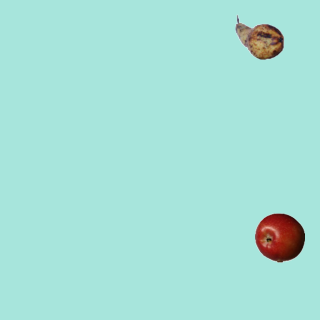Apple Braeburn: (254, 212, 304, 262)
Pear Abate: (234, 12, 284, 62)
